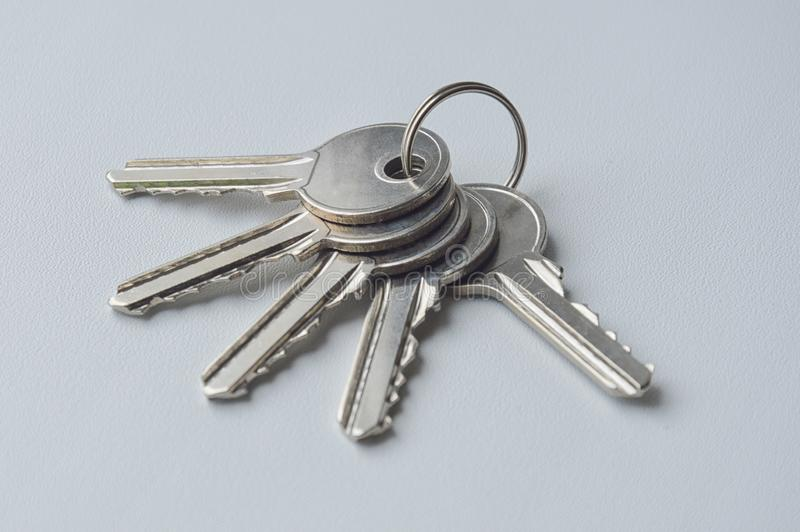key: (86, 116, 672, 461)
